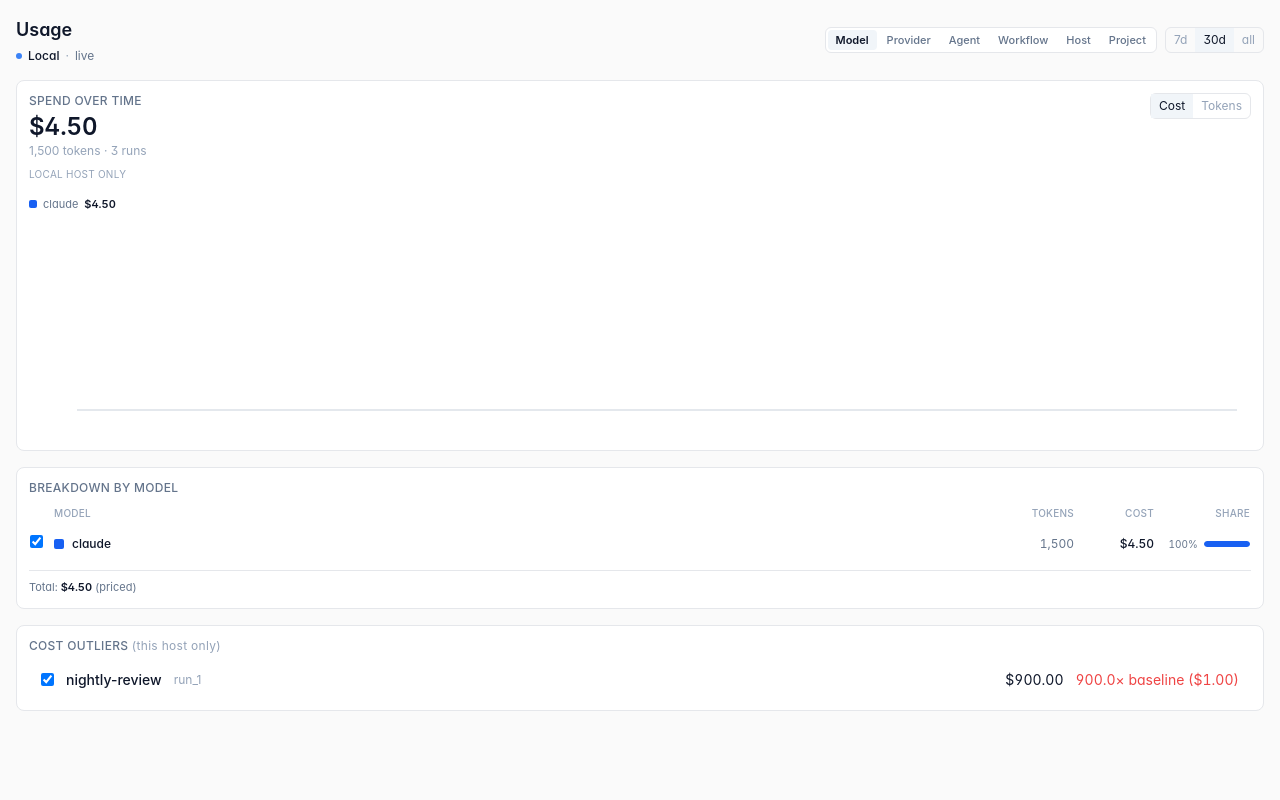
Test case: Usage page › interactive filtering › toggling an outlier excludes its run and shows the chip
The width and height of the screenshot is (1280, 800).
Expected: the link "nightly-review" is shown, [66, 670, 162, 690]
Click the checkbox named "run_1": click(48, 680) [41, 673, 54, 686]
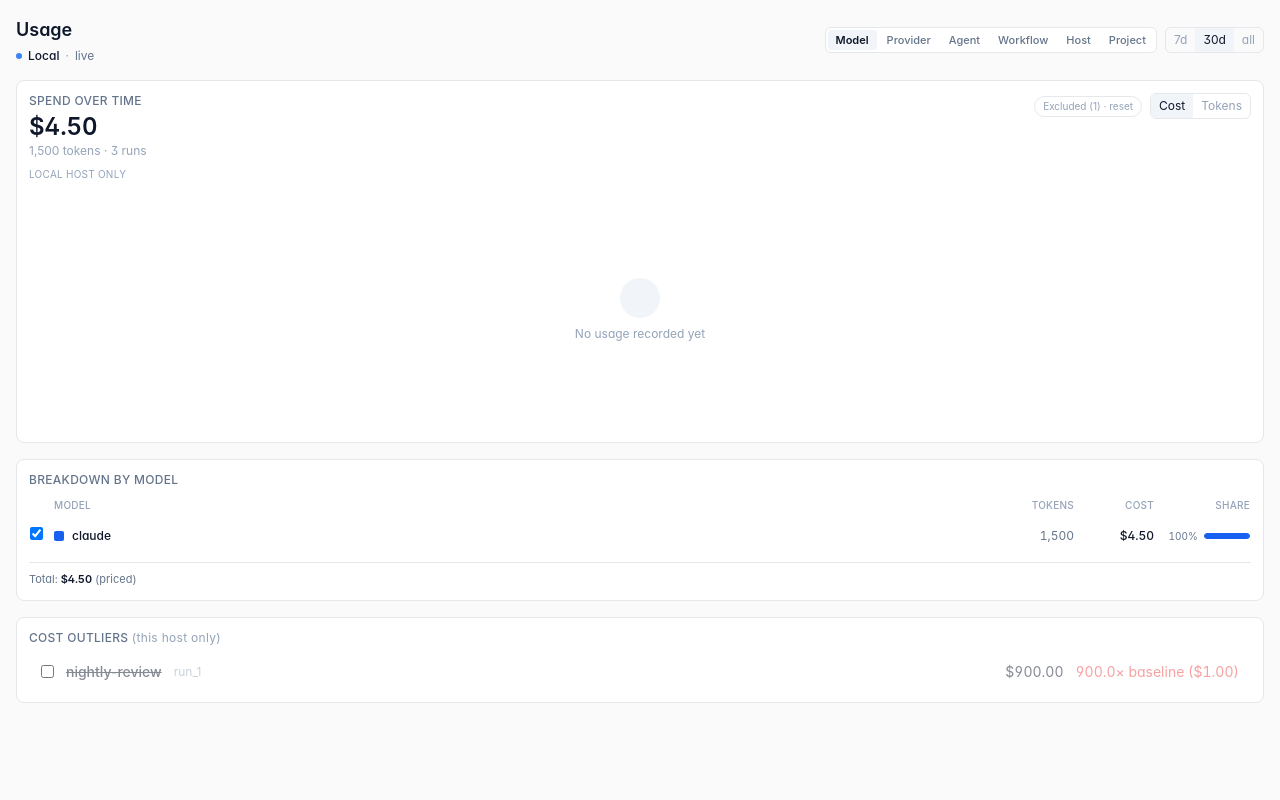
Expected: the button "Excluded (1) · reset" is shown, [1034, 96, 1142, 116]
